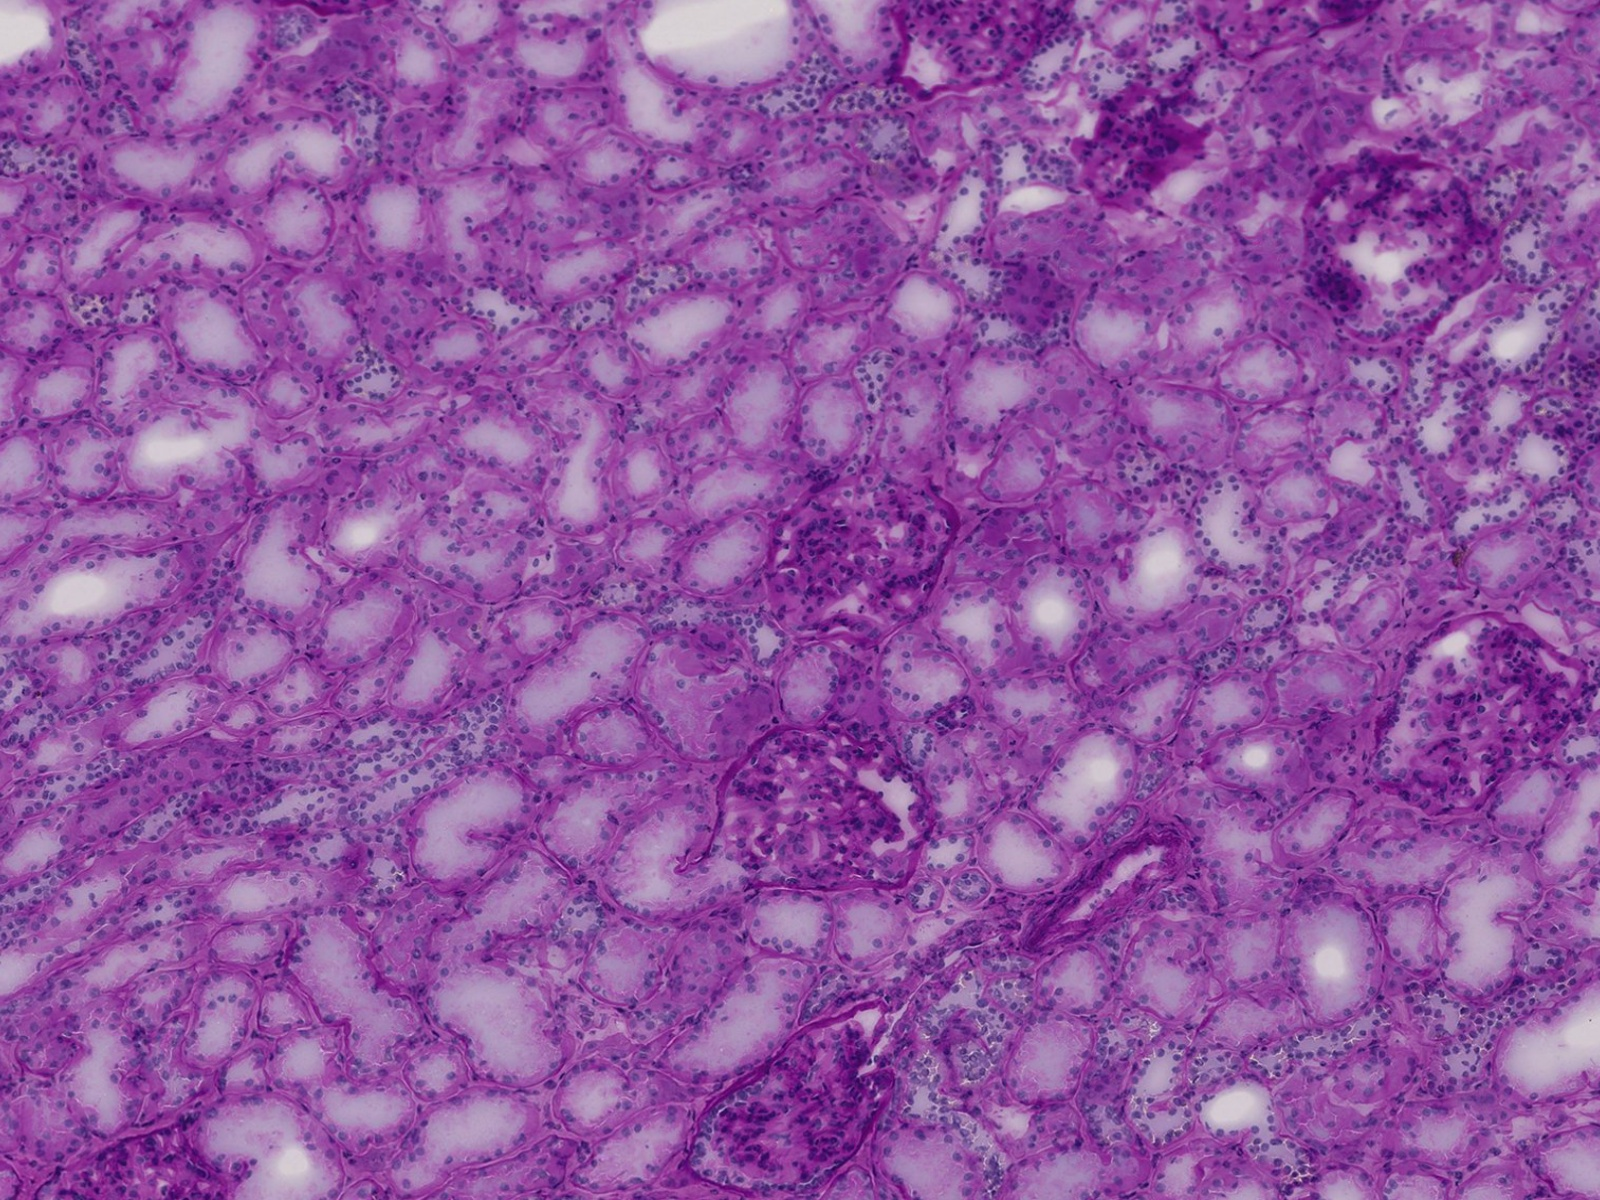Glomeruli: (1380, 603, 1600, 824), (700, 720, 930, 911), (683, 995, 894, 1200), (1289, 141, 1500, 342), (769, 476, 965, 642), (879, 8, 1077, 105), (72, 1114, 248, 1200)
